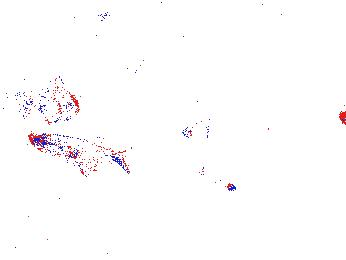X-ray fish: (32, 76, 81, 129)
red belly glassfish: (199, 164, 238, 193), (245, 107, 278, 135)
redtail glassfish: (30, 132, 135, 177), (119, 55, 159, 88), (182, 113, 213, 149)
